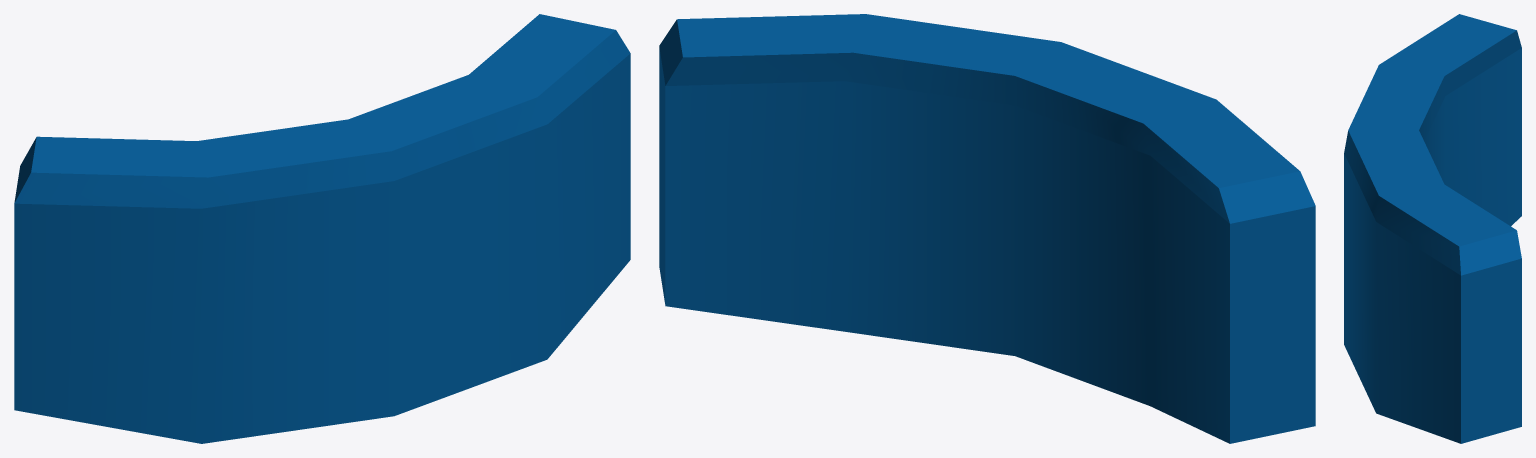
File: Leg_Prop_Cooking_Apron_Bib_01_C04.fbx
3 views of the same model, side by side, from view 1: azimuth 30°, elevation 25°; view 2: azimuth 150°, elevation 25°; view 3: azimuth 270°, elevation 25° (orthographic). The views are drawn at different scales.
Parts seen in each view (by area): view 1: Leg_Prop_Cooking_Apron_Bib_01_C04; view 2: Leg_Prop_Cooking_Apron_Bib_01_C04; view 3: Leg_Prop_Cooking_Apron_Bib_01_C04.
Boxes of the visible parts, x1=… form: Leg_Prop_Cooking_Apron_Bib_01_C04: x1=14, y1=14, x2=630, y2=443; Leg_Prop_Cooking_Apron_Bib_01_C04: x1=659, y1=14, x2=1315, y2=443; Leg_Prop_Cooking_Apron_Bib_01_C04: x1=1344, y1=14, x2=1521, y2=443.
Bounding box in the file's own units: 78.47 × 32.02 × 24.07.
